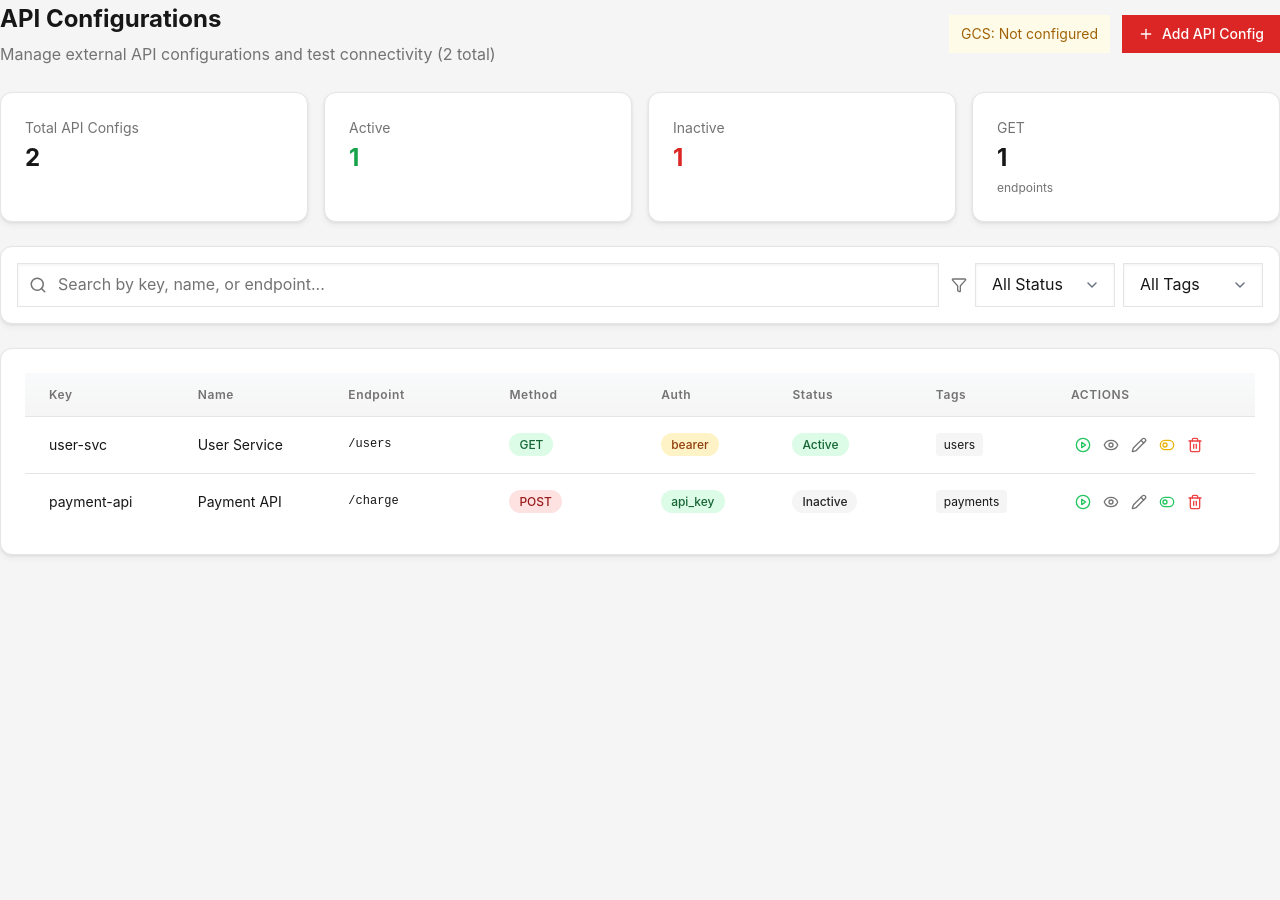
Test case: ApiConfigsManagement › opens view details modal
Expected: the text "User Service" is shown, 174,416 -> 324,473
Click the button titled "View Details" in the row of "user-svc".
click(1111, 445)  # box 1099,433 -> 1123,457
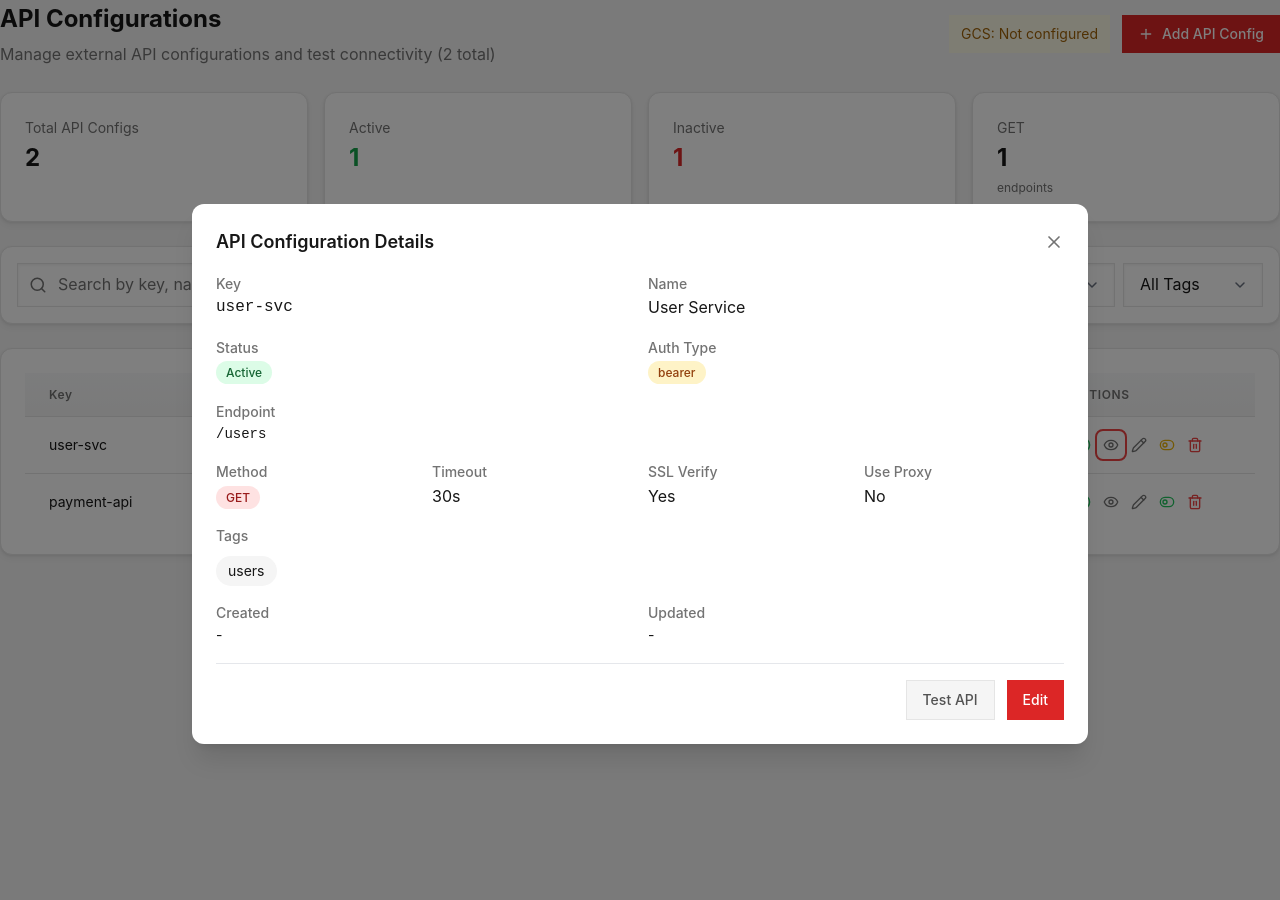
Result: the heading "API Configuration Details" is shown at 216,228 -> 434,257
